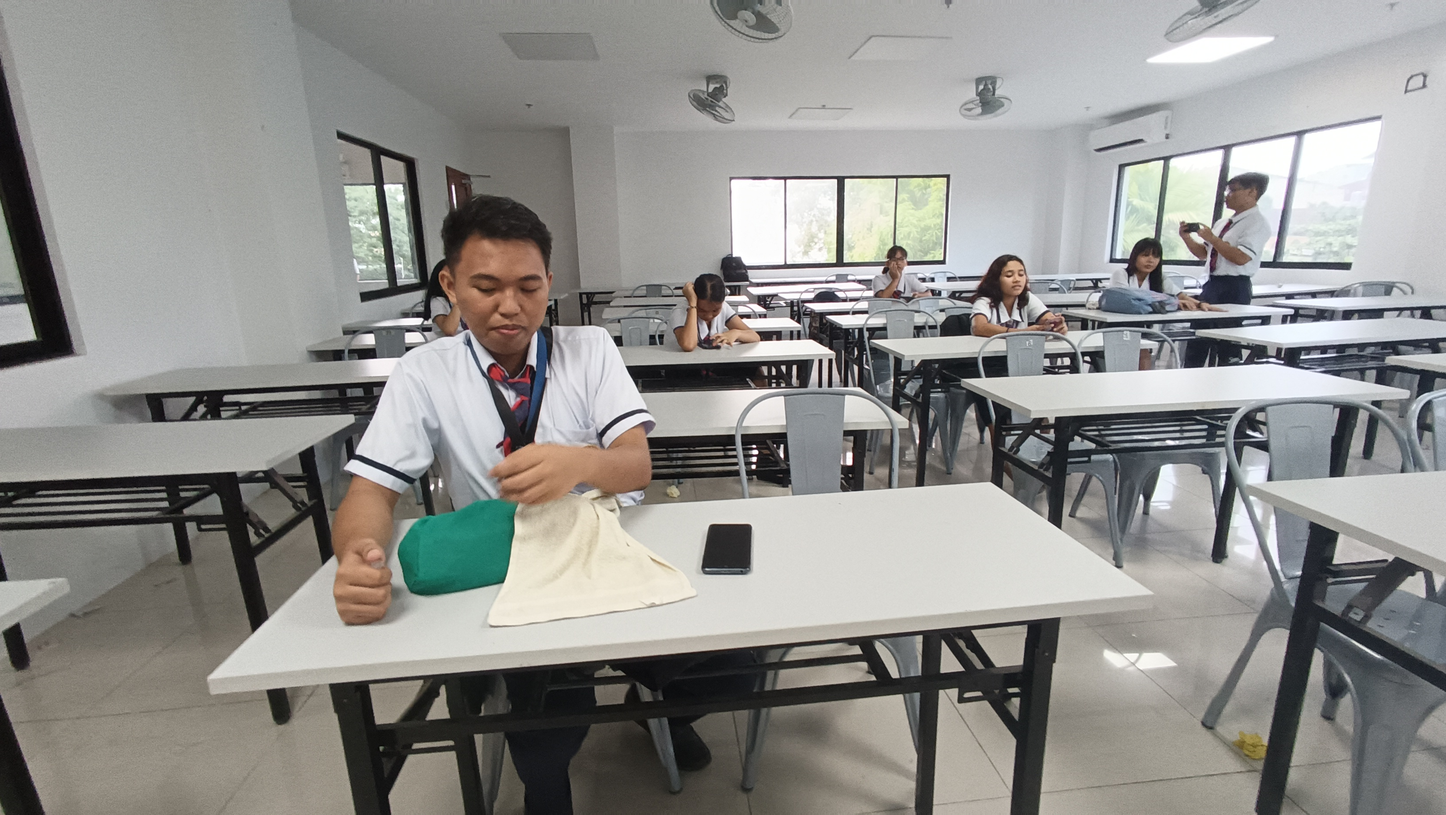with-student: (207, 189, 1155, 697), (871, 250, 1163, 369), (554, 266, 837, 382), (1061, 237, 1295, 330), (801, 244, 979, 313)
